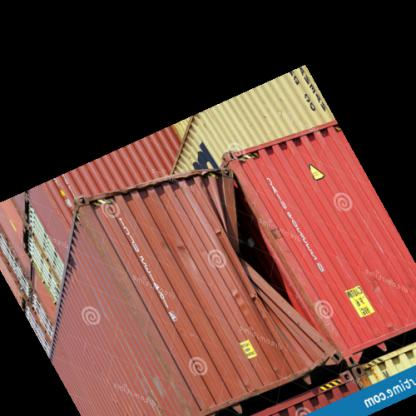Damage: (220, 185, 323, 319)
